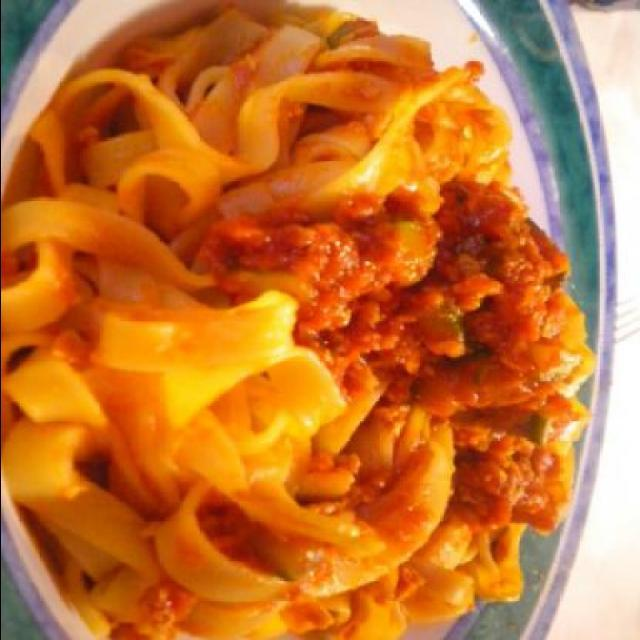Pasta al ragu: (37, 34, 589, 628)
